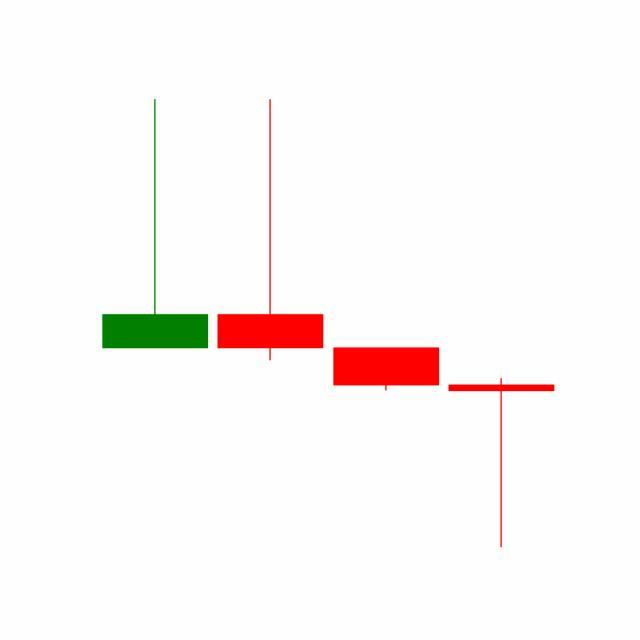Dragonfly Doji: (444, 377, 560, 550)
